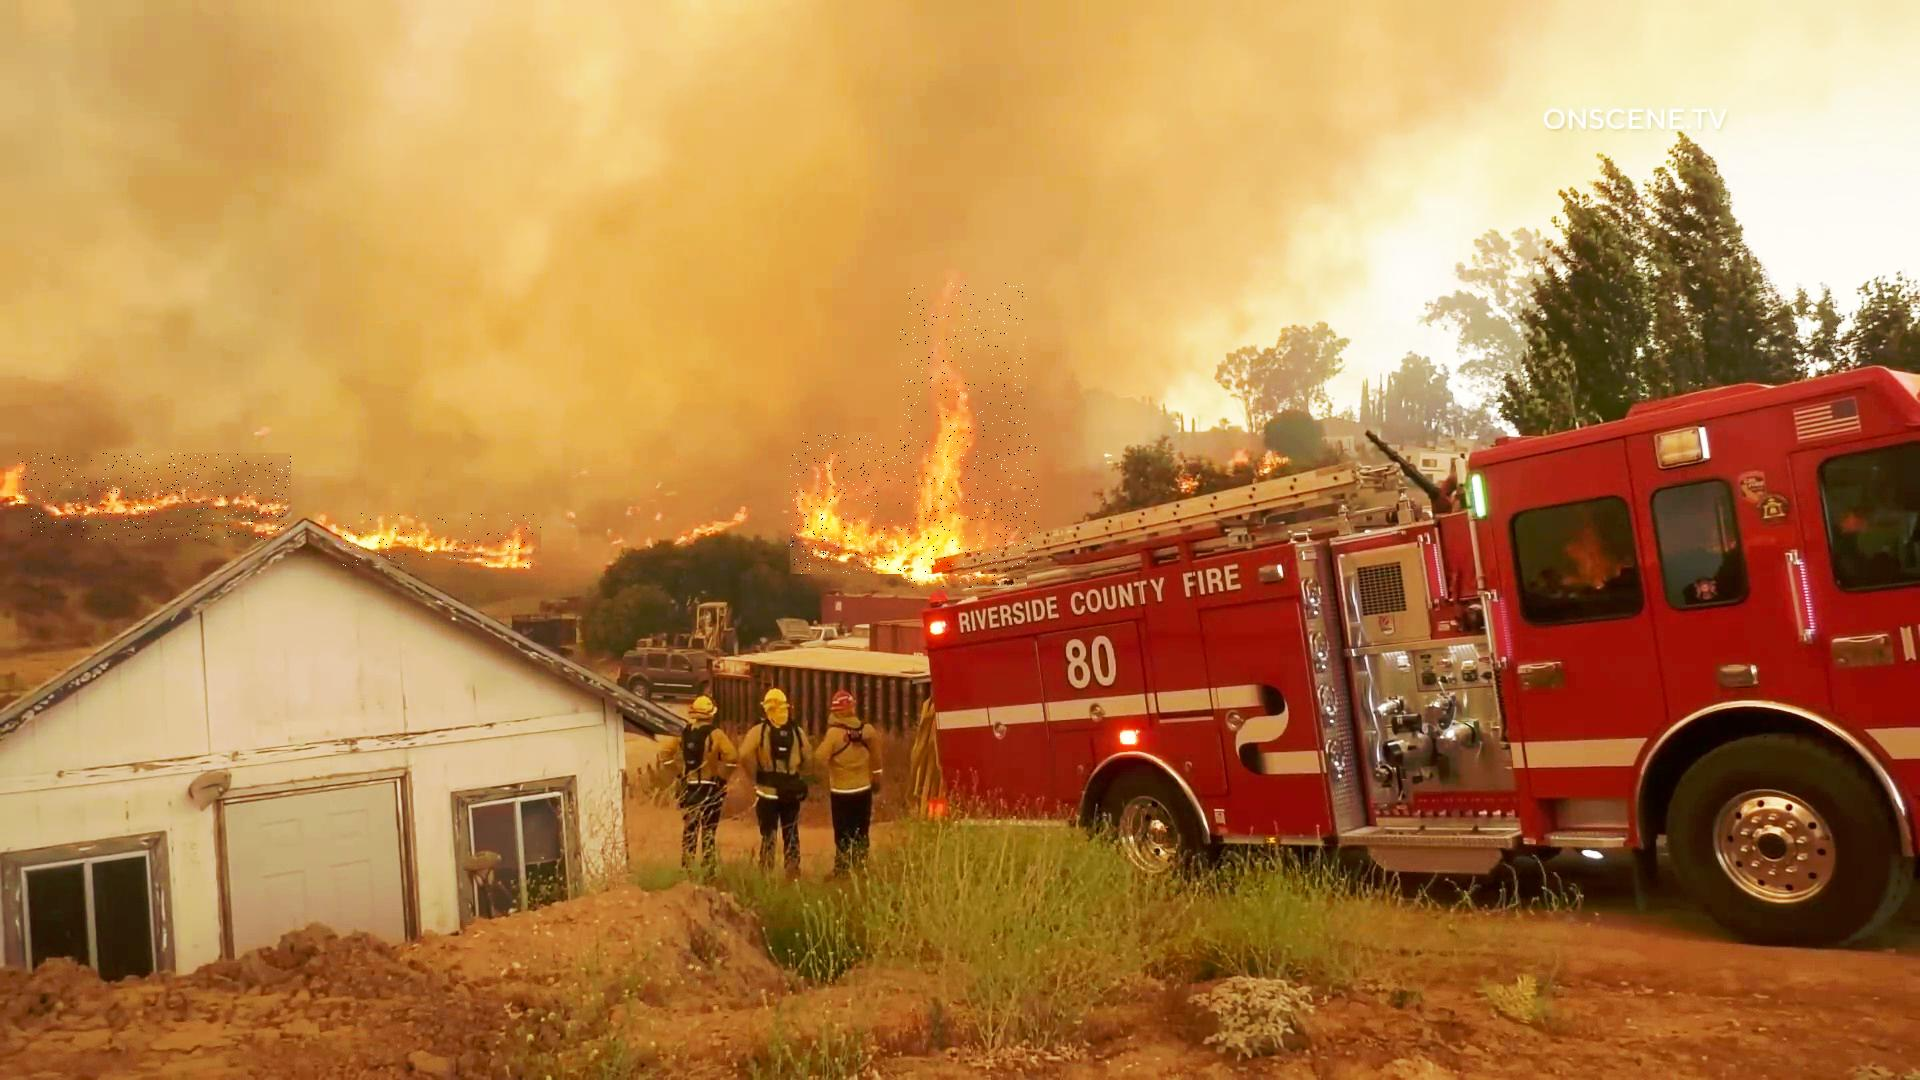fire: (901, 284, 1027, 588), (791, 434, 1040, 574), (18, 454, 291, 541), (343, 513, 541, 568)
